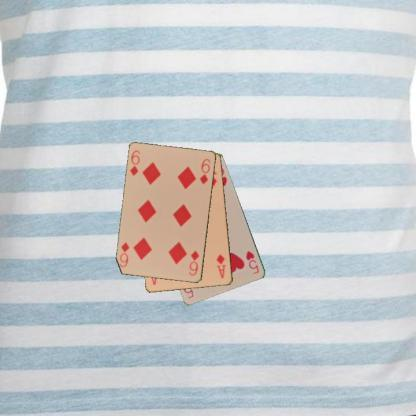5h: (243, 248, 261, 276)
6d: (128, 148, 142, 178), (186, 248, 200, 277)
Ad: (213, 251, 228, 280)
